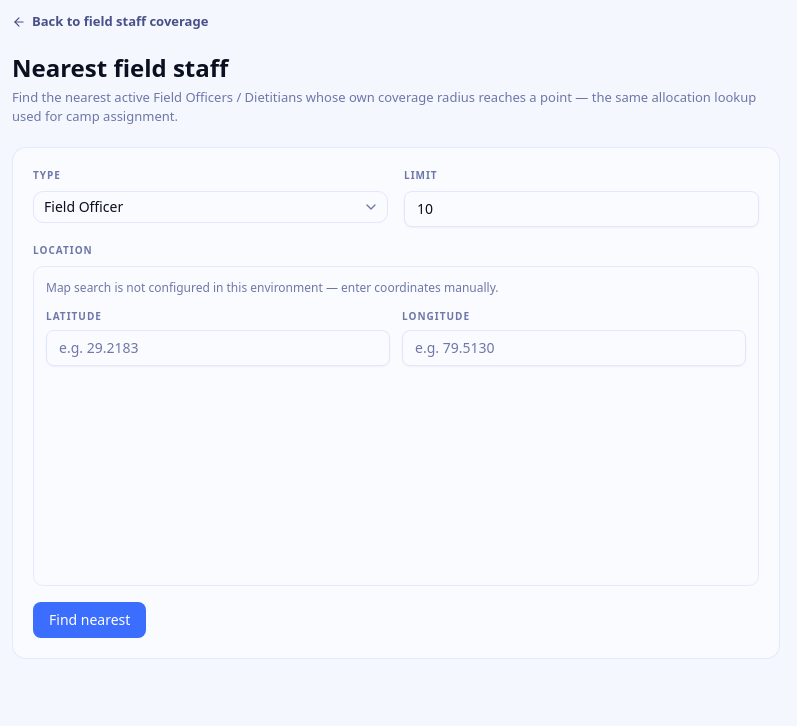
Test: NearestGeoProfilesPage › blocks search with no location picked
Click the button "Find nearest" at {"x": 90, "y": 620}, box [33,602,146,638]
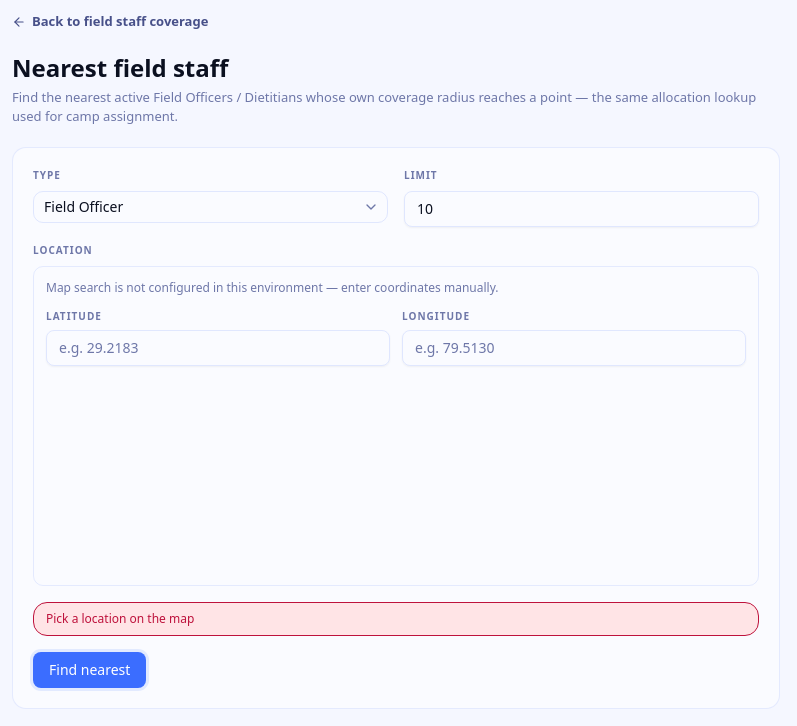
Expected: the text "Pick a location on the map" is shown, [33,602,759,636]
